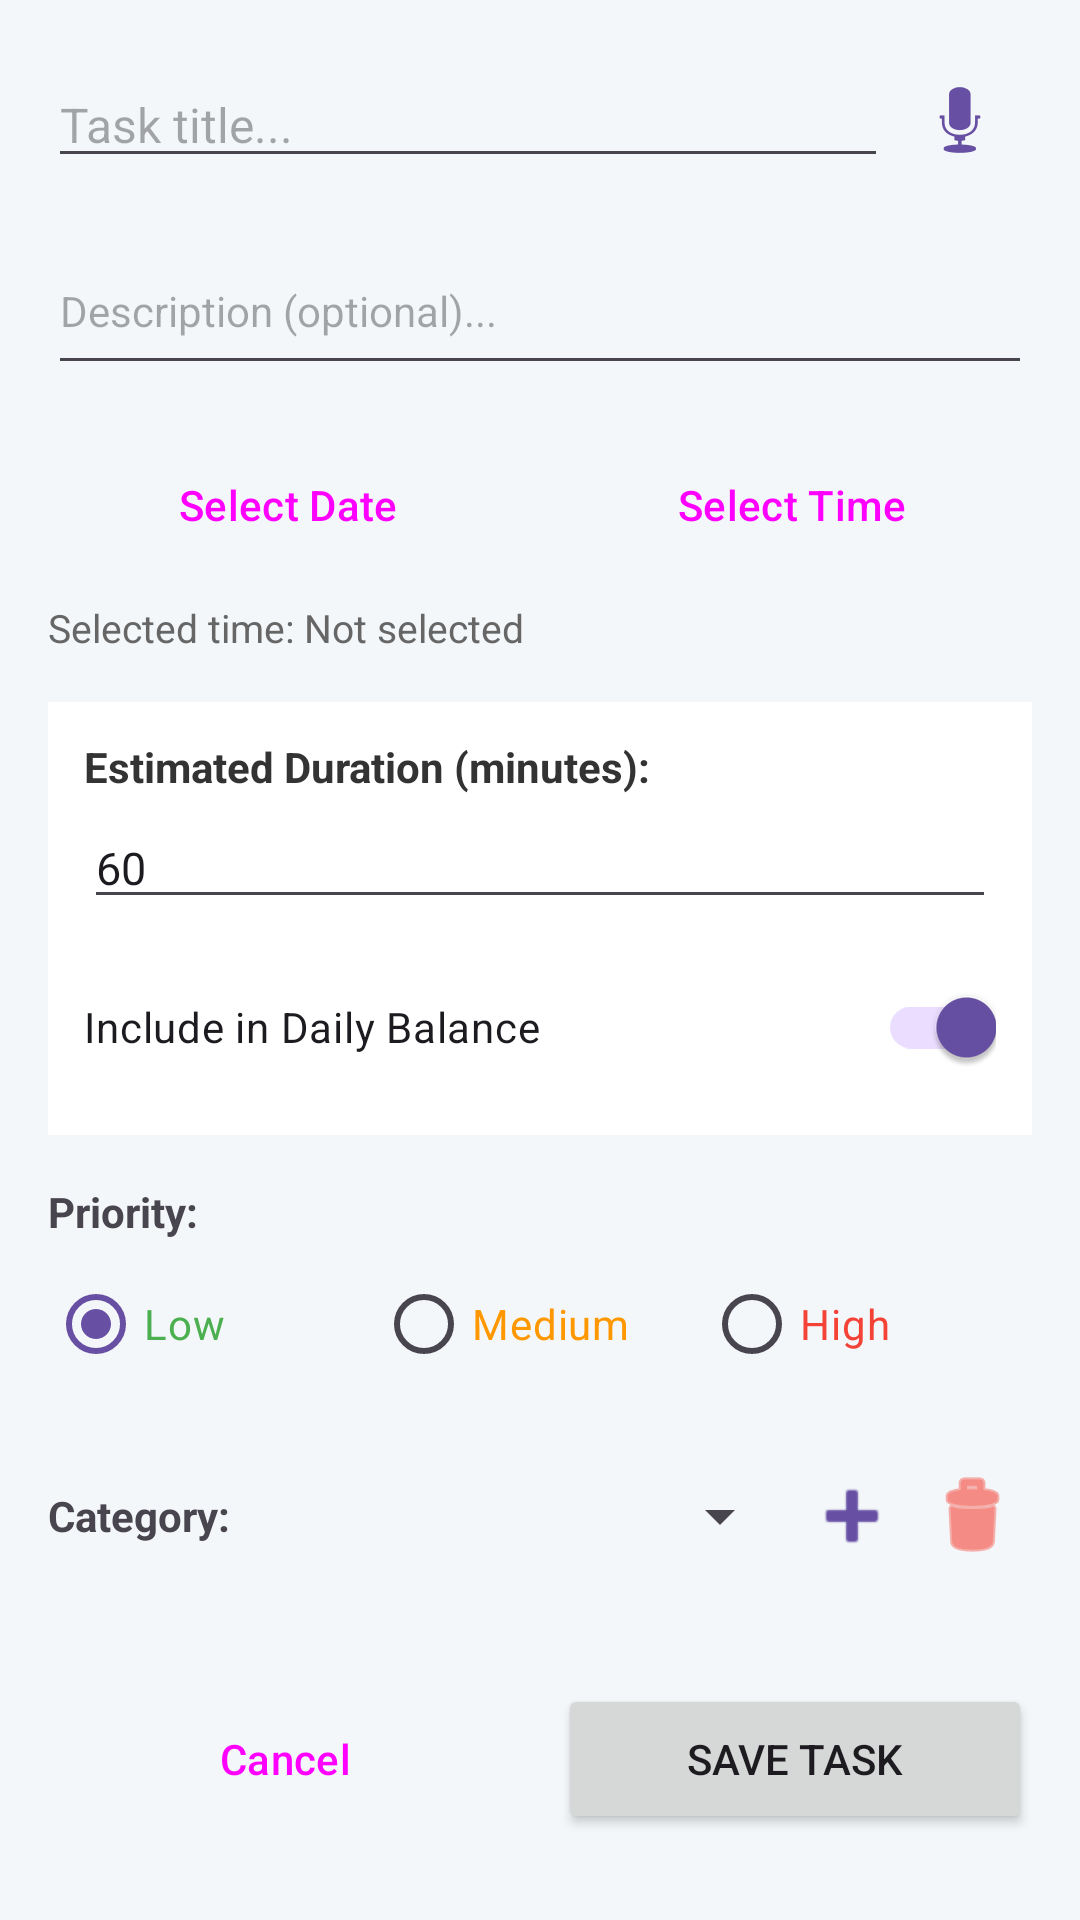

Screen size 1080 x 1920. Icon name, then its box in pixels as box=[x1, y1, x2, y2]:
Nhập bằng giọng nói: box=[939, 87, 981, 153]
Thêm danh mục: box=[825, 1489, 879, 1543]
Xóa danh mục: box=[945, 1477, 1000, 1552]
